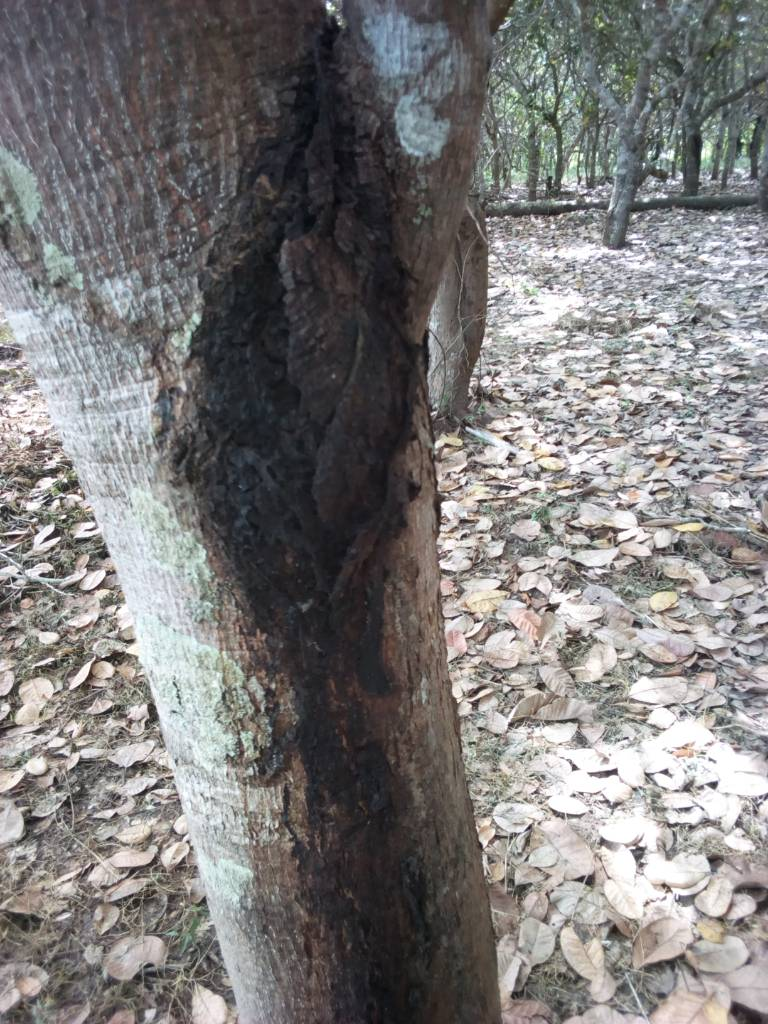Gommose: (216, 127, 461, 1002)
